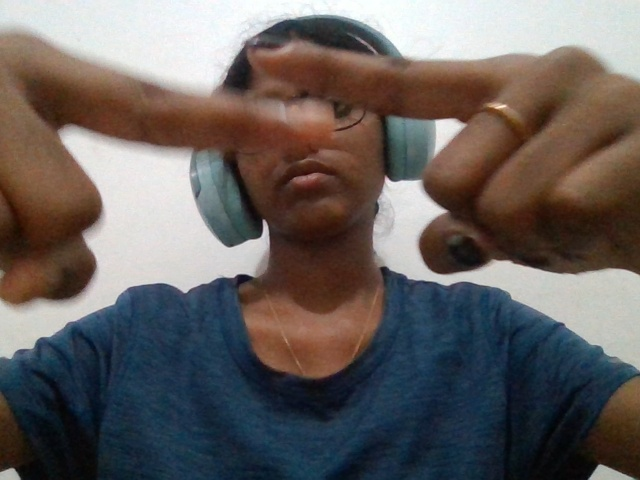Sign: (4, 6, 640, 335)
